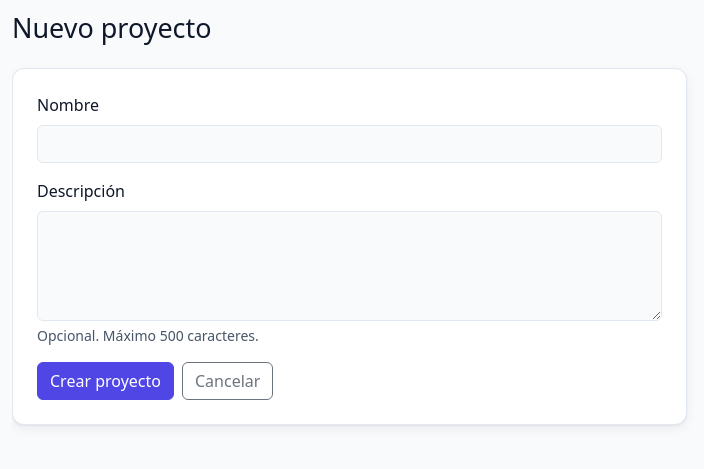
PaginaNuevoProyecto › no envía un proyecto sin nombre
Click the button "Crear proyecto".
click(106, 381)  # box [37,362,174,400]
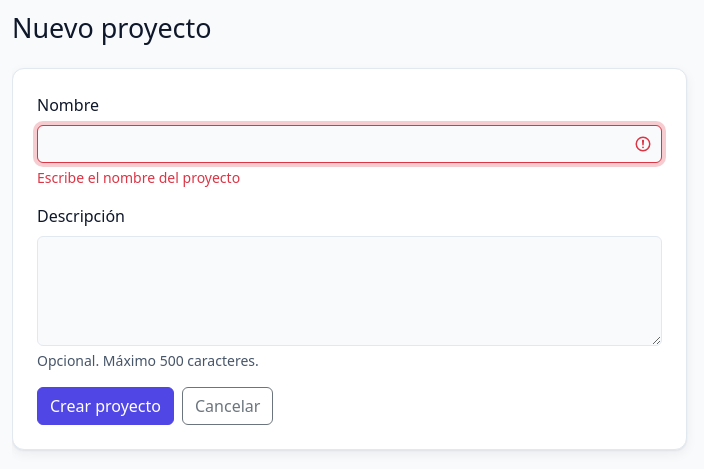
Now the text "Escribe el nombre del proyecto" is shown, box [37,168,240,187]
